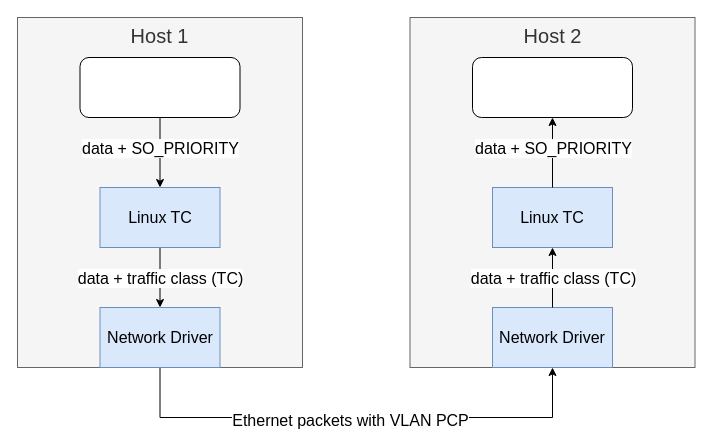
Some shapes in this 713 by 447 pixel diagram are drawn without their labels. The shapes that lost their labels are listed below. From the top down, each one's centre as x and y in pixels, then its label:
(159,87): socet.send(msg)
(552,87): socet.recv()
